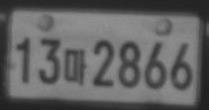1: (13, 36, 34, 83)
2: (92, 39, 114, 87)
3: (37, 38, 60, 84)
6: (144, 41, 167, 89), (171, 41, 193, 89)
8: (118, 40, 141, 88)
마: (64, 48, 88, 85)
